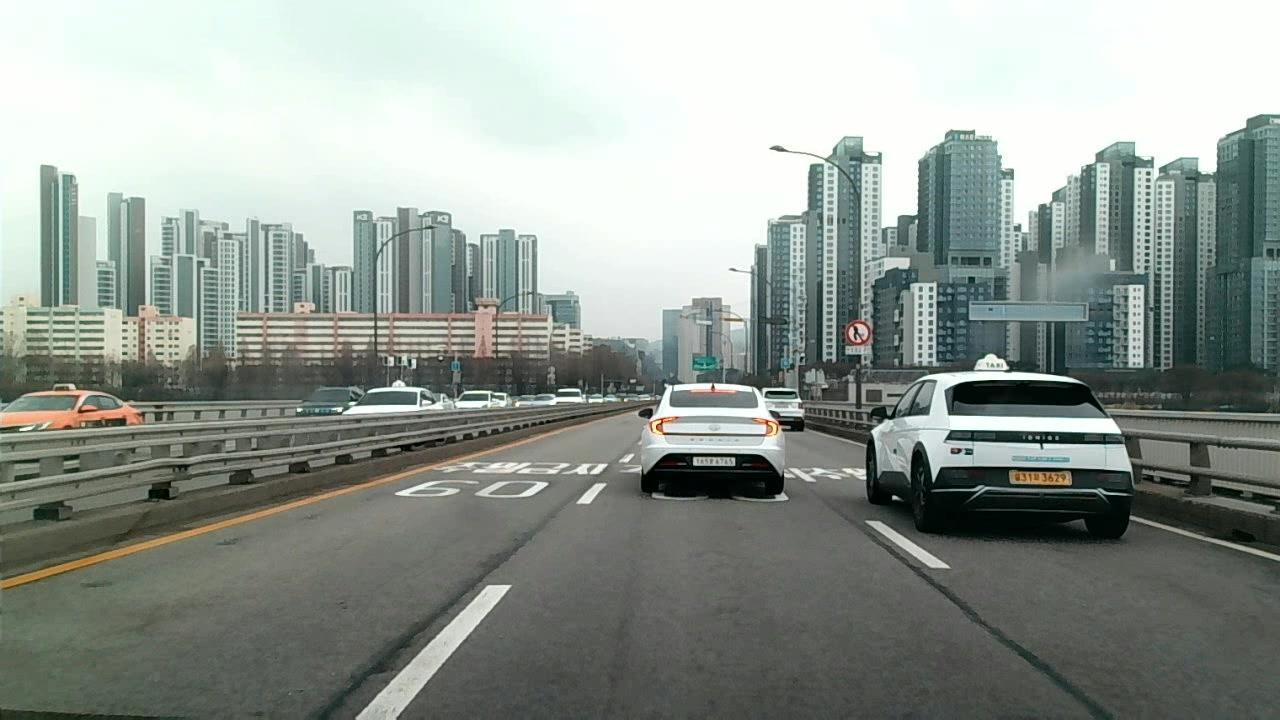vcrack: (948, 599, 1120, 720), (296, 592, 463, 716), (464, 503, 563, 587), (854, 519, 951, 593)
